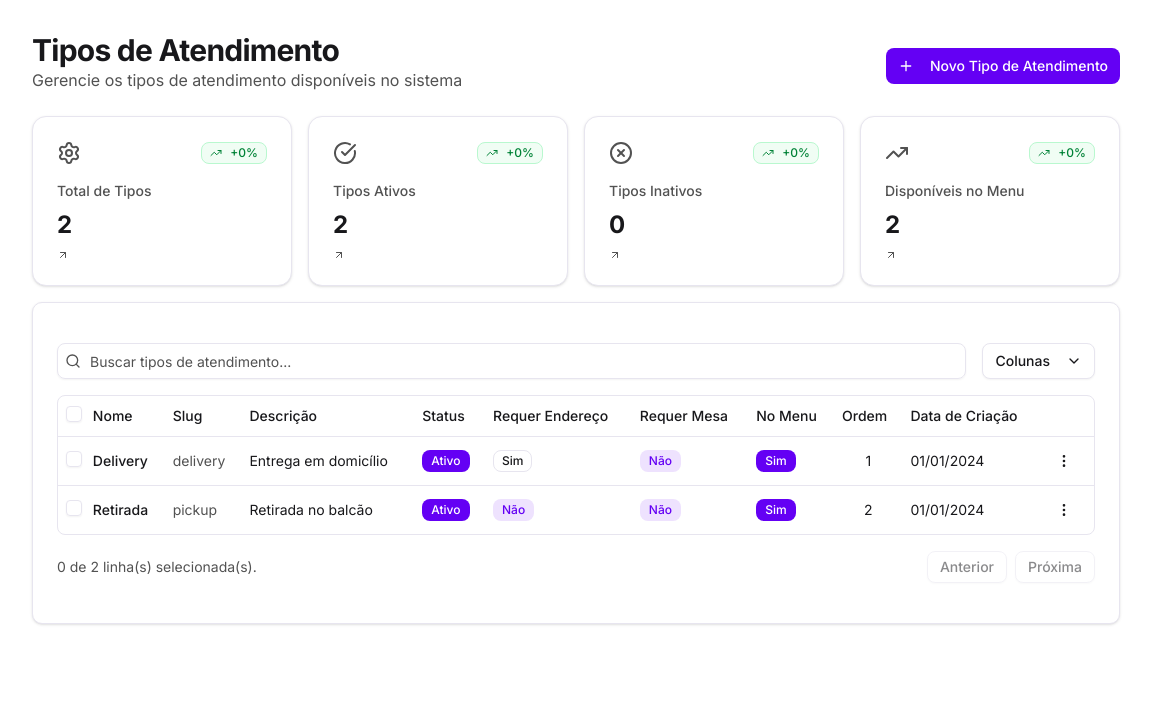
it: ServiceTypes delete - frontend › exibe mensagem de erro quando exclusão falha
Expected: the text "Delivery" is shown, [93,450,157,470]
# Abrir menu de ações
Click the button named "Open menu" in the row of "Entrega em domicílio" at (1064, 460), box [1048,444,1080,476]
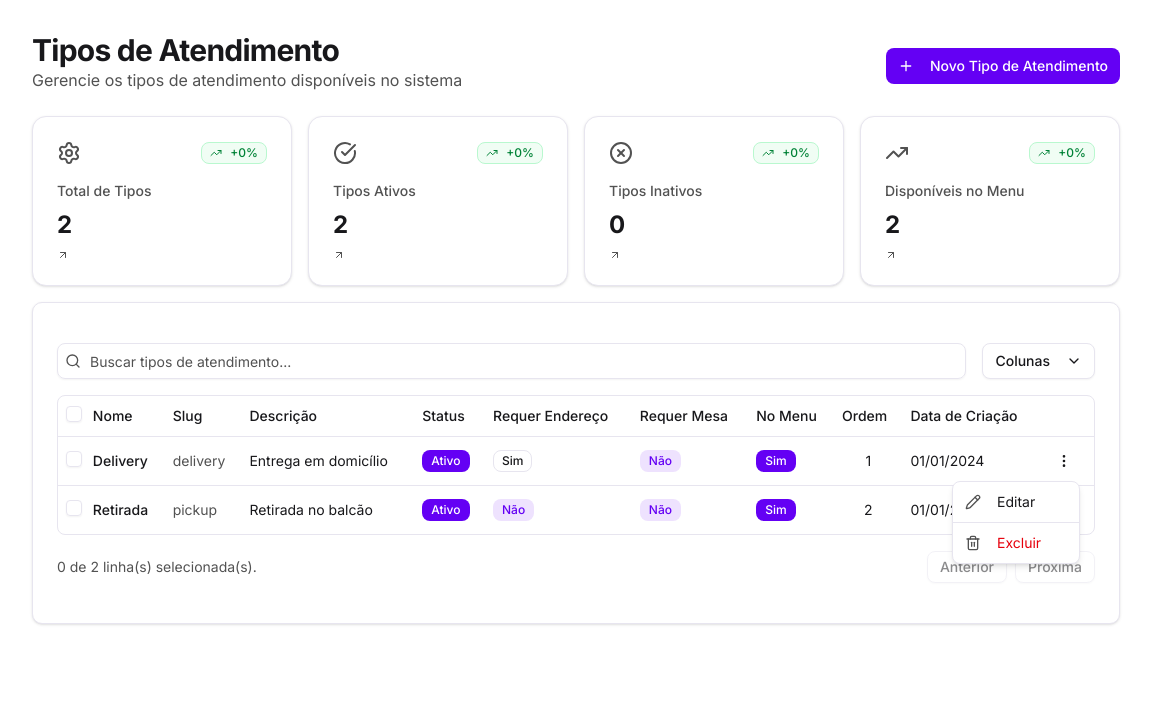
# Clicar em "Excluir"
Click the menu item "Excluir" at (1003, 542), box [965,534,1041,551]
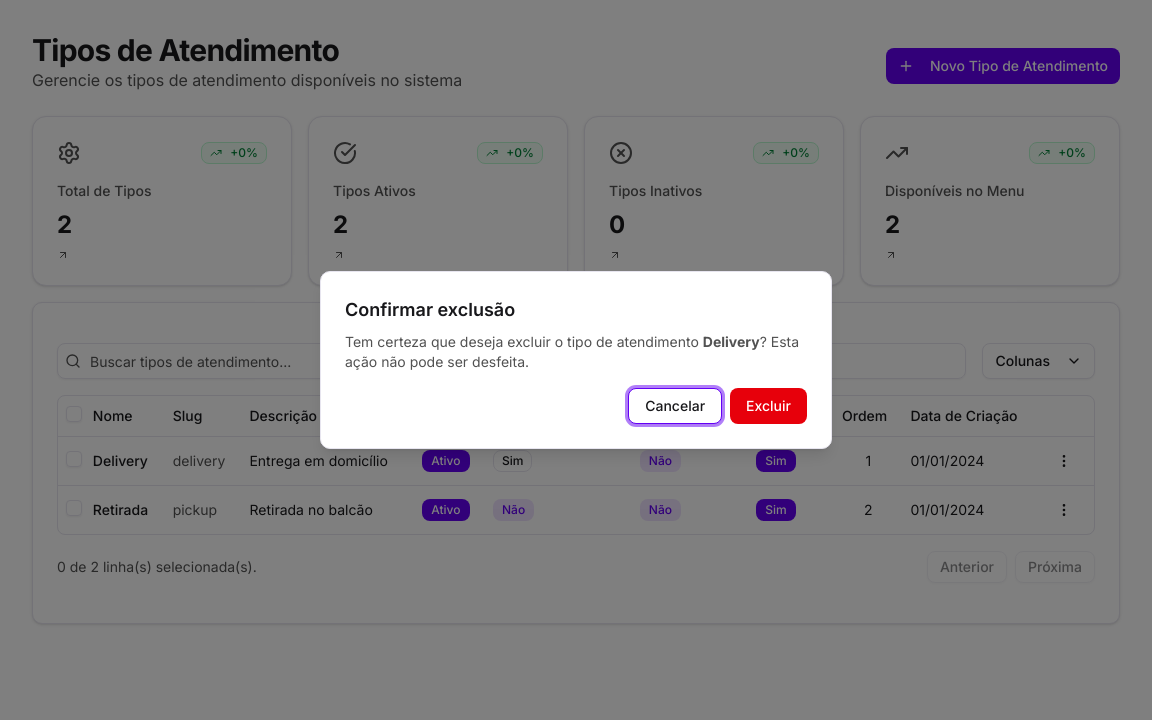
# Confirmar exclusão
Click the button "Excluir" at (769, 406), box [730,388,807,424]
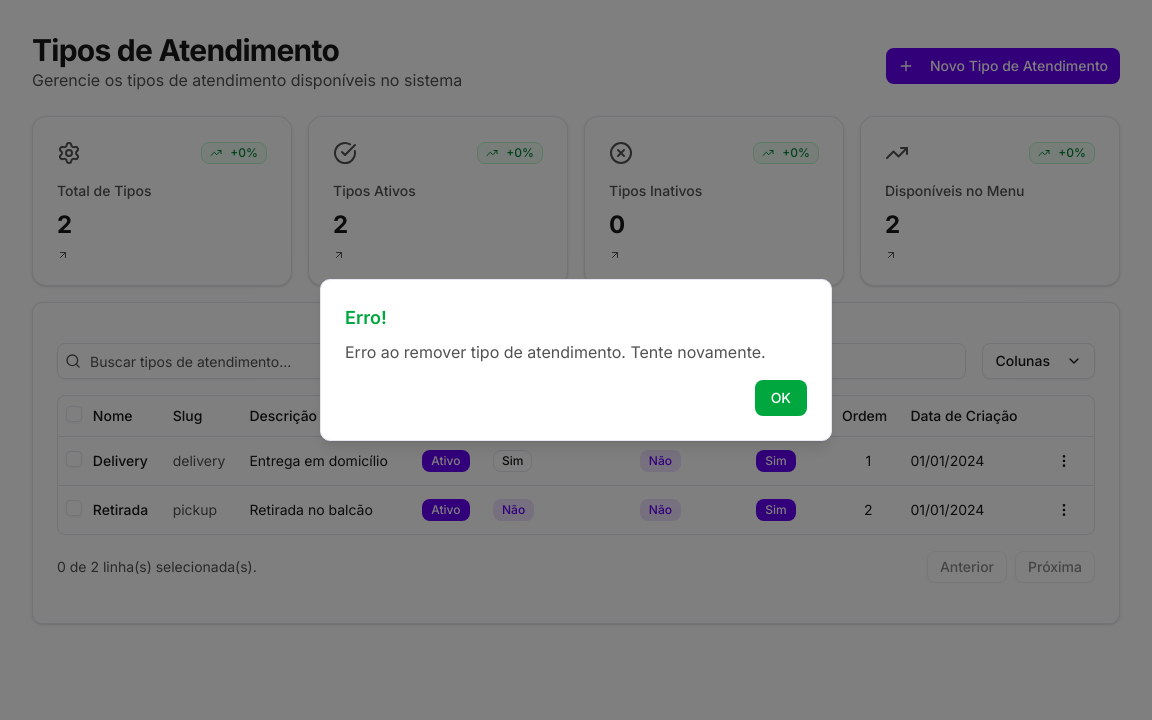
Now the text "Erro ao remover tipo de atendimento. Tente novamente." is shown, box [345,340,807,364]
